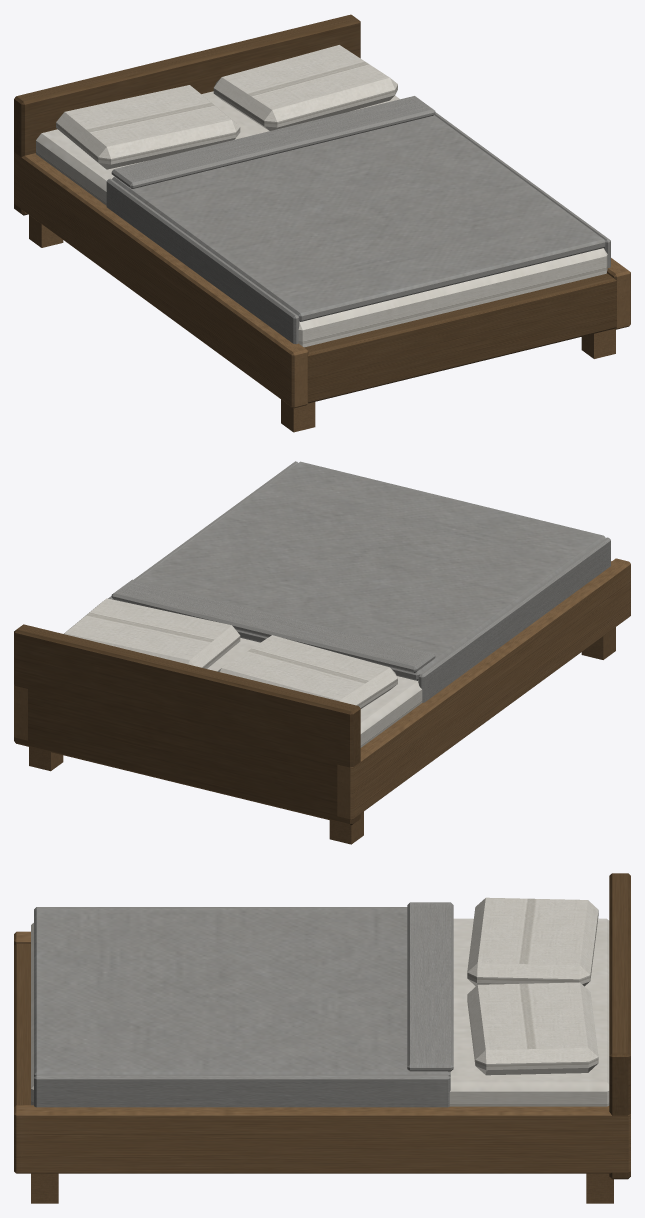
The model's file is bed.glb.
The picture shows the model from 3 angles, top to bottom: view 1: azimuth 30°, elevation 25°; view 2: azimuth 150°, elevation 25°; view 3: azimuth 270°, elevation 25°; orthographic projection. The views are drawn at different scales.
Parts seen in each view (by area): view 1: core_bed; view 2: core_bed; view 3: core_bed.
Part boxes in pixels (bbox=[...]): core_bed: bbox=[14, 14, 630, 432]; core_bed: bbox=[14, 461, 630, 844]; core_bed: bbox=[14, 873, 630, 1203].
Size of the model in its own units: 1.4 by 0.55 by 2.
Materials: 1 (1 with a texture image).
